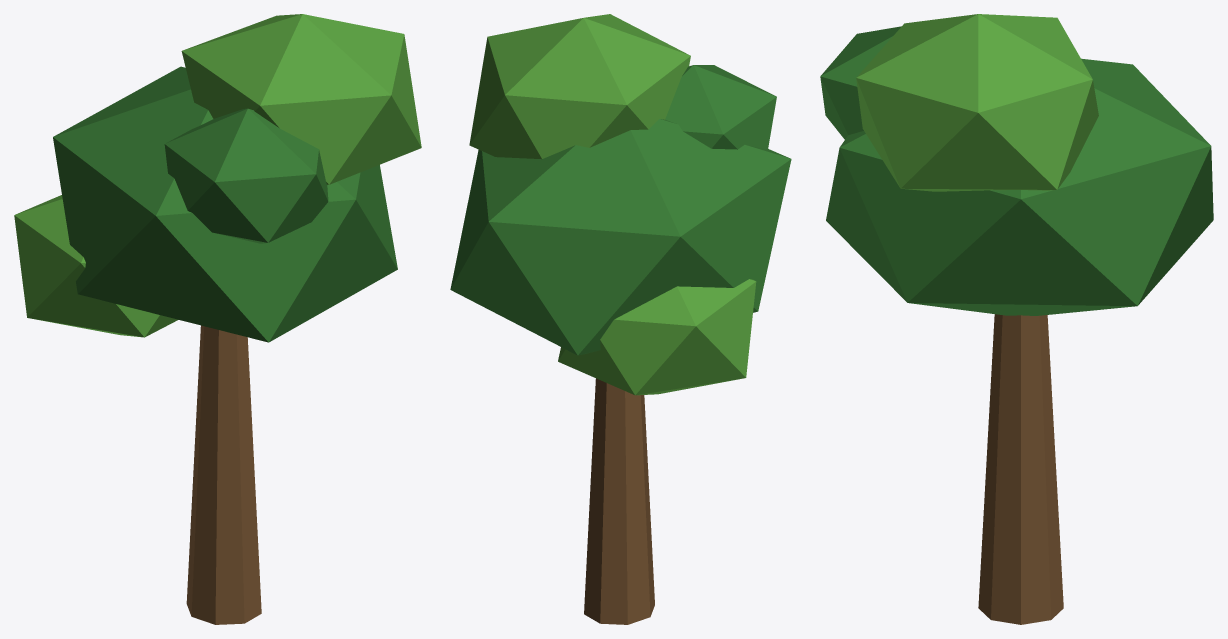
The model's file is tree.glb.
The picture shows the model from 3 angles, left to right: view 1: azimuth 30°, elevation 25°; view 2: azimuth 150°, elevation 25°; view 3: azimuth 270°, elevation 25°; orthographic projection. The views are drawn at different scales.
Visible parts, largest first — view 1: tree_canopy, tree_trunk-col; view 2: tree_canopy, tree_trunk-col; view 3: tree_canopy, tree_trunk-col.
Boxes of the visible parts, x1,y1,x2,y2 form: tree_canopy: [14, 14, 421, 342]; tree_trunk-col: [186, 325, 261, 624]; tree_canopy: [450, 14, 791, 395]; tree_trunk-col: [584, 378, 654, 624]; tree_canopy: [820, 14, 1213, 315]; tree_trunk-col: [978, 314, 1063, 624].
Size of the model in its own units: 2 by 3.5 by 2.
